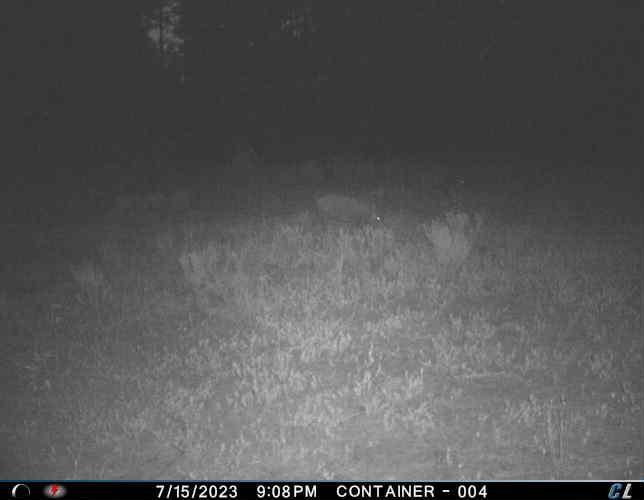Hog: (309, 186, 384, 231)
